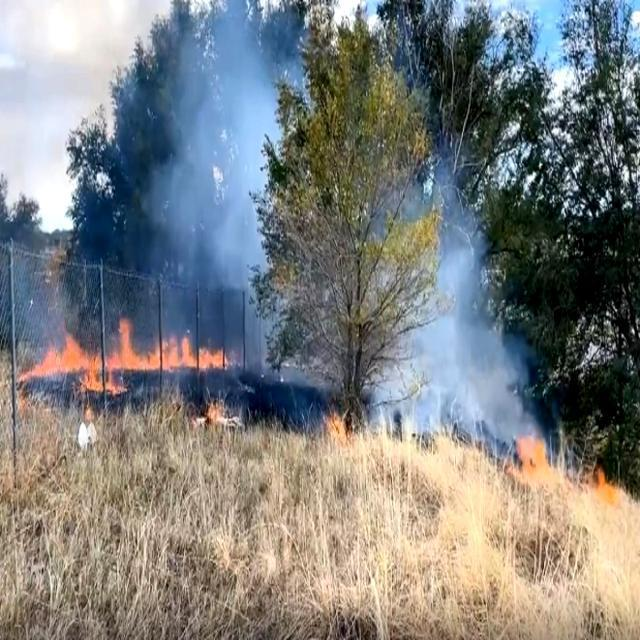Fire: (58, 320, 244, 404)
Smoke: (116, 0, 304, 307), (378, 140, 522, 467)
